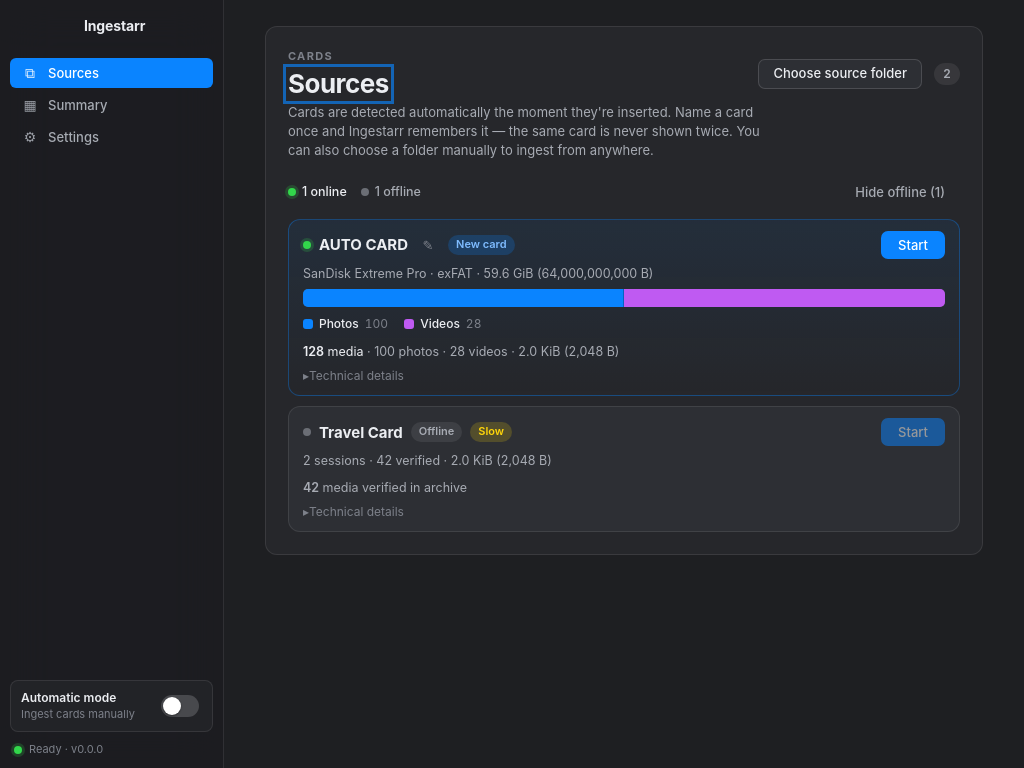
Test case: manual folder ingest flow › surfaces stable identifiers but never renders bearer capabilities
The image size is (1024, 768).
Click the button "▦ Summary": (112, 105) x1=10 y1=90 x2=213 y2=120
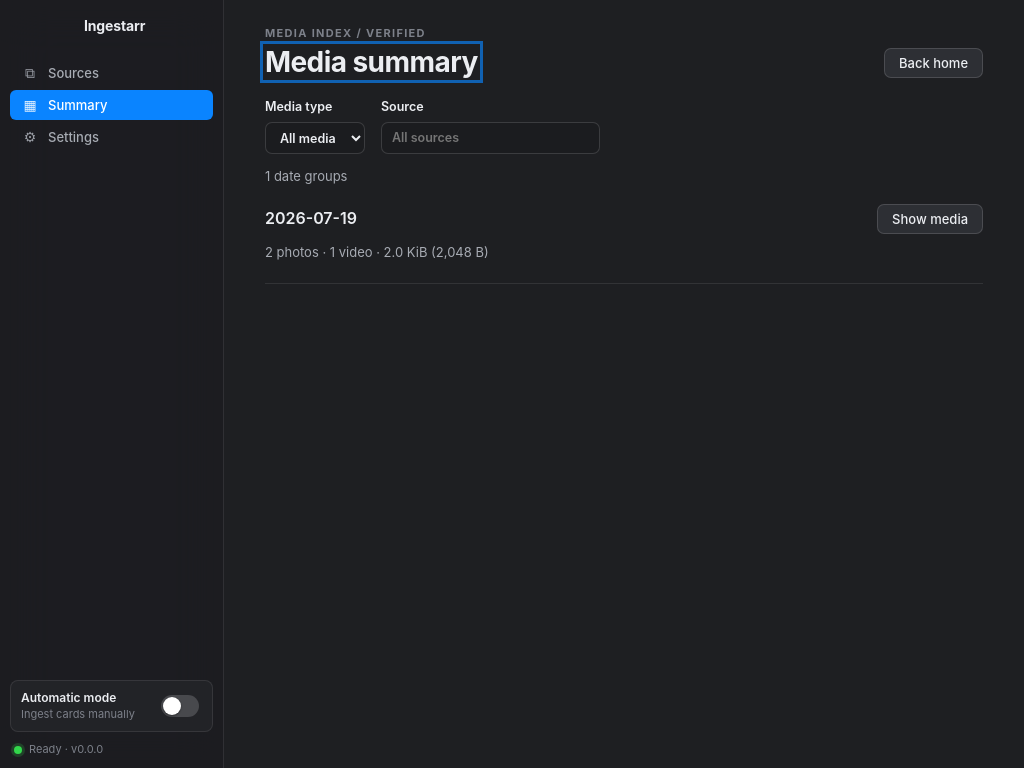
Click the button with aria-label "show media for 2026-07-19": (930, 219) x1=877 y1=204 x2=983 y2=234
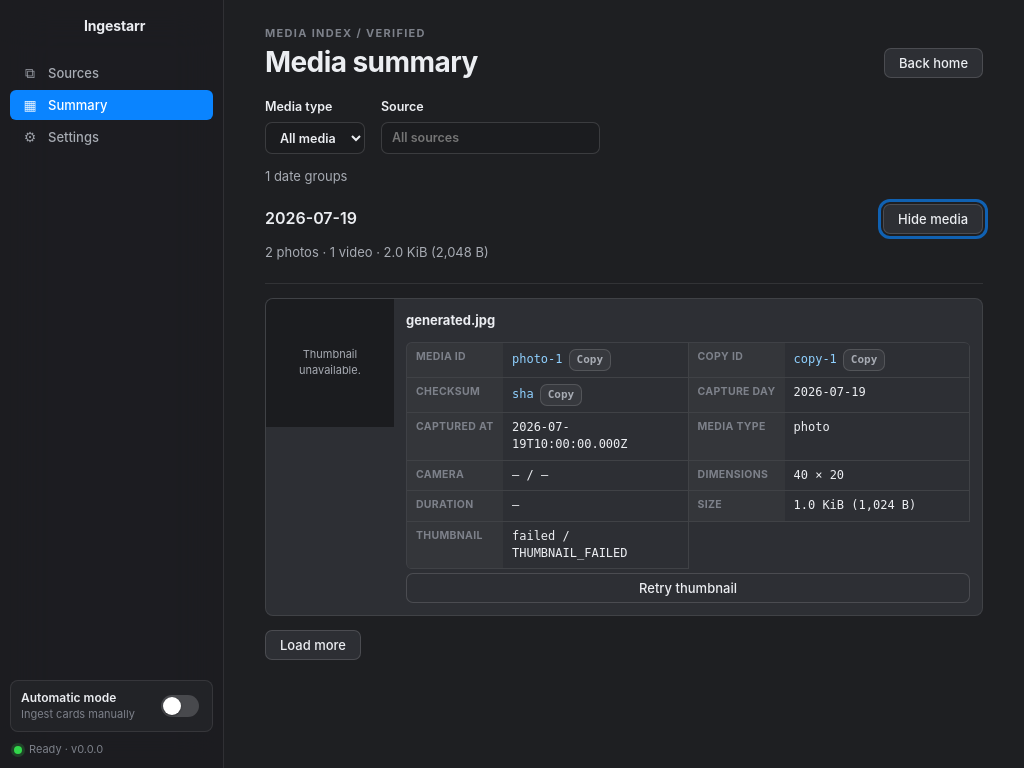
Now the text "photo-1" is shown, box x1=512 y1=351 x2=563 y2=369
Now the text "copy-1" is shown, box x1=794 y1=351 x2=837 y2=369
Now the text "sha" is shown, box x1=512 y1=386 x2=534 y2=404
